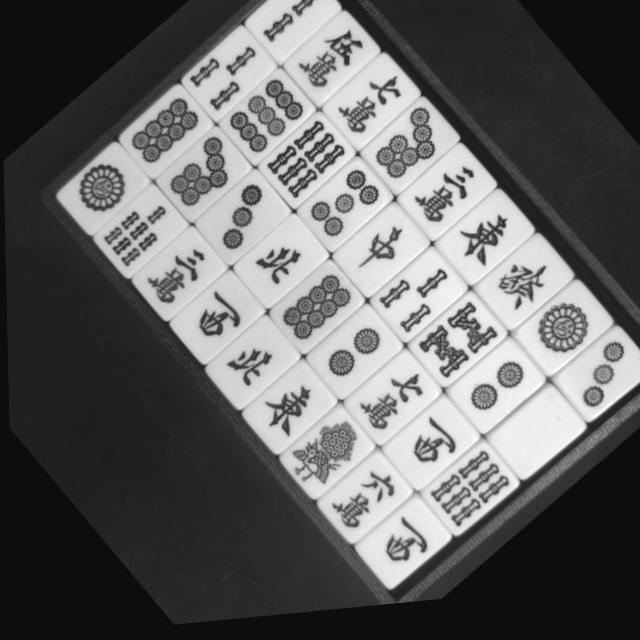hdg: (475, 244, 571, 341)
hdr: (337, 212, 426, 303)
hdw: (491, 398, 580, 489)
hwe: (242, 367, 335, 460), (438, 198, 530, 292)
hwn: (232, 222, 323, 314), (207, 324, 294, 411)
hww: (381, 403, 478, 501), (356, 504, 449, 598), (173, 275, 262, 365)
sb1: (278, 412, 373, 508)
sb2: (246, 0, 341, 67)
sb3: (370, 257, 465, 352), (181, 30, 274, 124)
sb6: (257, 116, 354, 215), (423, 452, 517, 546)
sb7: (96, 188, 187, 280)
sb8: (409, 301, 505, 398)
sc3: (398, 153, 493, 249), (132, 229, 225, 324)
sc5: (285, 18, 378, 111)
sc6: (317, 459, 410, 552)
sc7: (325, 62, 419, 155), (347, 359, 439, 451)
sd1: (517, 294, 606, 385), (57, 146, 146, 236)
sd2: (449, 349, 542, 444), (307, 312, 400, 405)
sd3: (194, 175, 287, 269), (556, 340, 640, 433)
sd5: (298, 164, 391, 258)
sd7: (360, 106, 457, 203), (157, 130, 249, 224)
sd8: (119, 90, 210, 180), (271, 268, 361, 358)
sd9: (219, 73, 314, 169)
